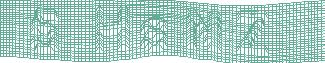5: (29, 7, 62, 57)
H: (93, 5, 131, 53)
N: (183, 5, 222, 55)
Z: (234, 10, 270, 58)
s: (140, 16, 169, 53)
